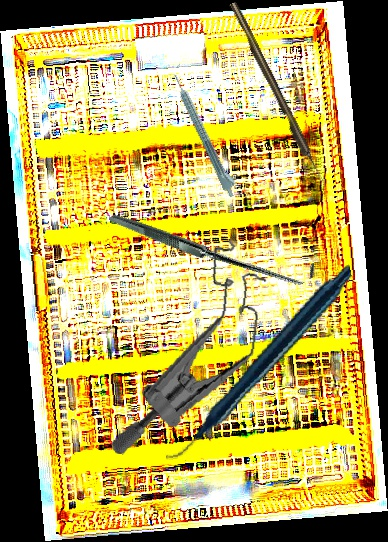Handpiece: (136, 264, 380, 461), (170, 70, 242, 199)
Hook Surgical: (108, 139, 320, 353), (228, 0, 324, 181)
Speculum: (106, 224, 276, 472)
